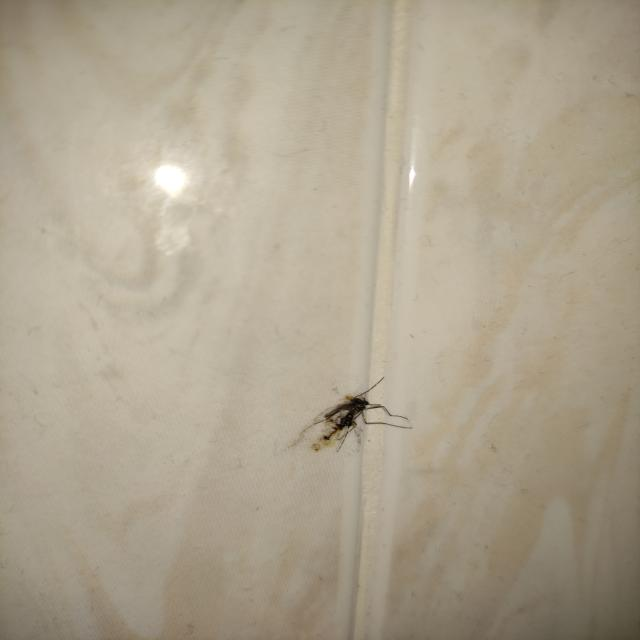albopictus: (286, 368, 412, 458)
